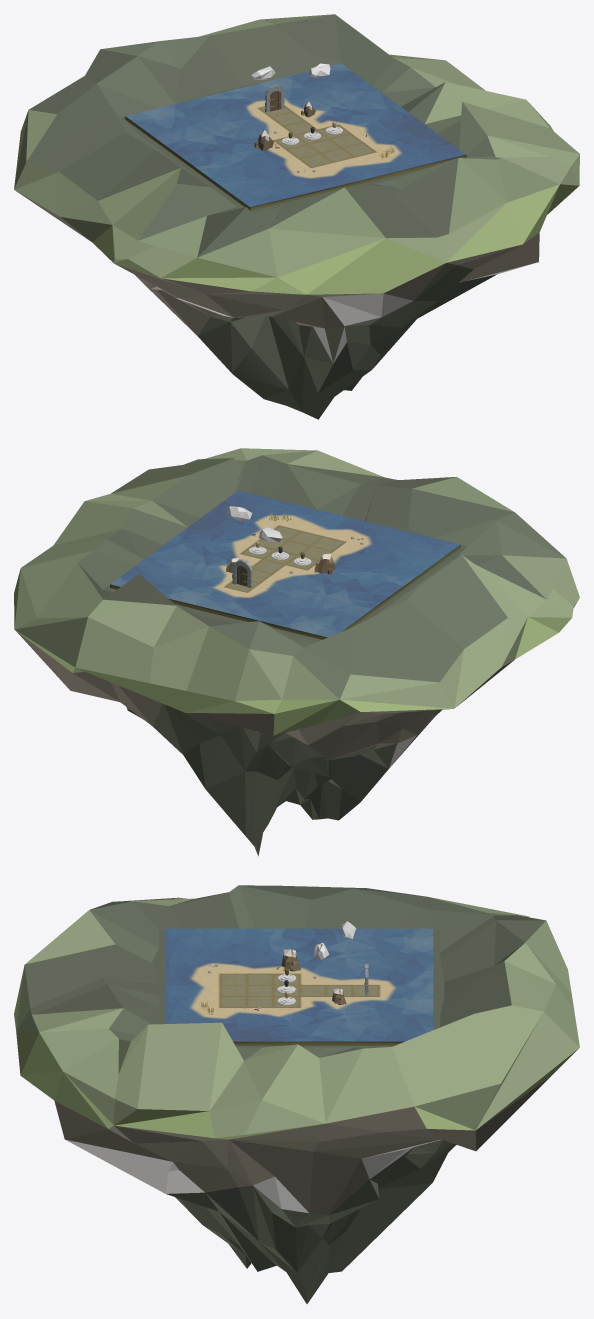
The model's file is Level2.fbx.
3 renders of one model, top to bottom at view 1: azimuth 30°, elevation 25°; view 2: azimuth 150°, elevation 25°; view 3: azimuth 270°, elevation 25°, orthographic. The views are drawn at different scales.
Parts seen in each view (by area): view 1: Island, pCube1; view 2: Island, pCube1; view 3: Island, pCube1.
Part boxes in pixels (<box>): Island: <box>14,14,579,419</box>; pCube1: <box>125,63,466,210</box>; Island: <box>14,448,579,856</box>; pCube1: <box>110,490,460,639</box>; Island: <box>14,885,579,1303</box>; pCube1: <box>166,928,433,1045</box>.
Bounding box in the file's own units: 4099 × 2923 × 4089.
